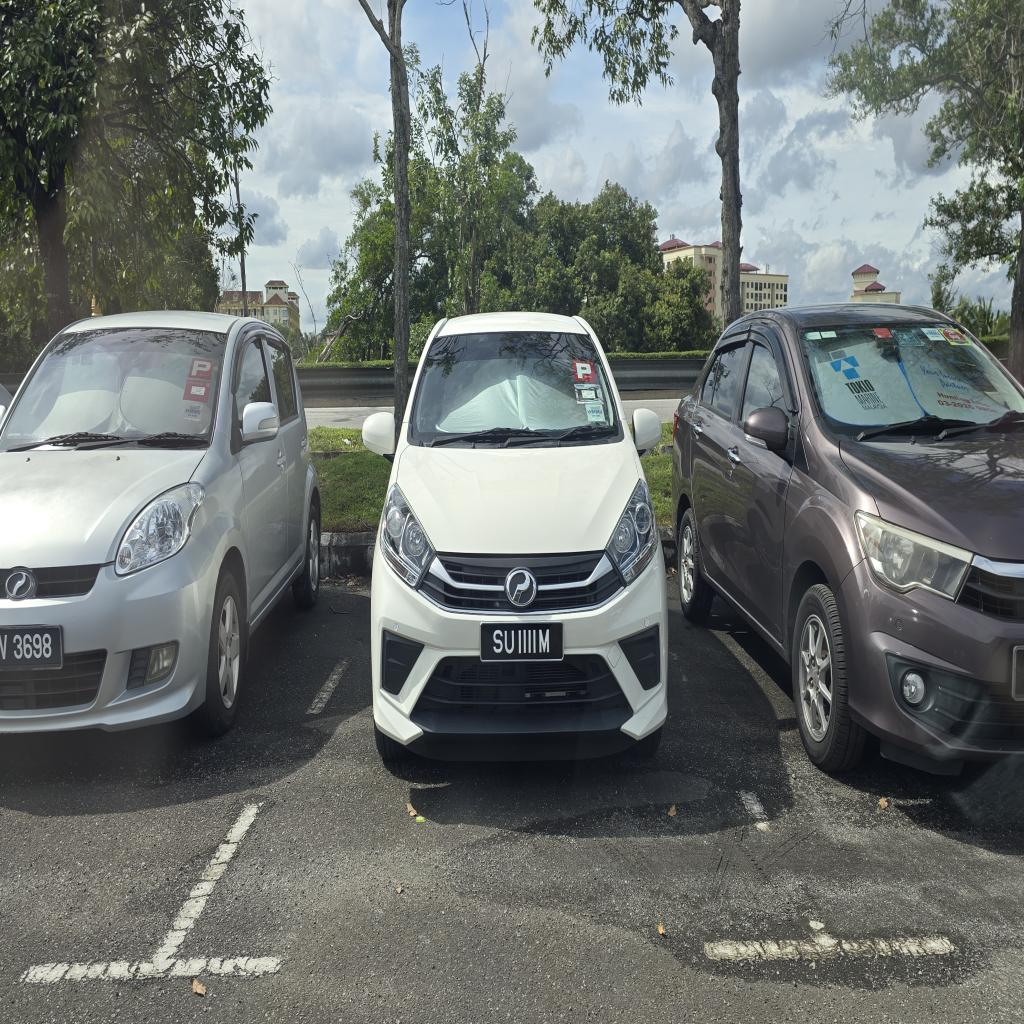car: (364, 313, 667, 759)
car plate: (481, 623, 562, 661)
